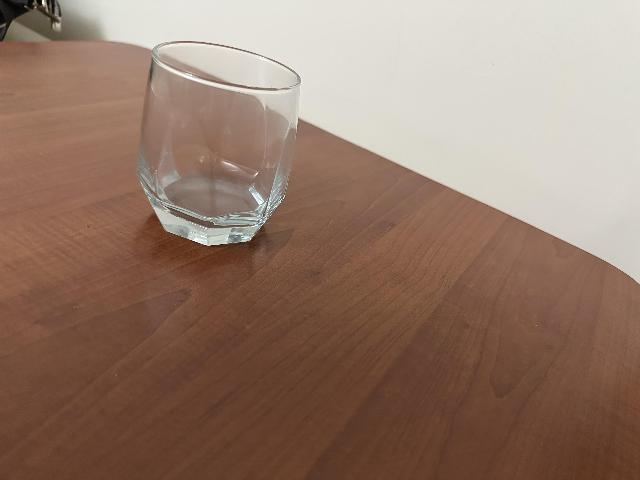Cam: (140, 29, 300, 249)
